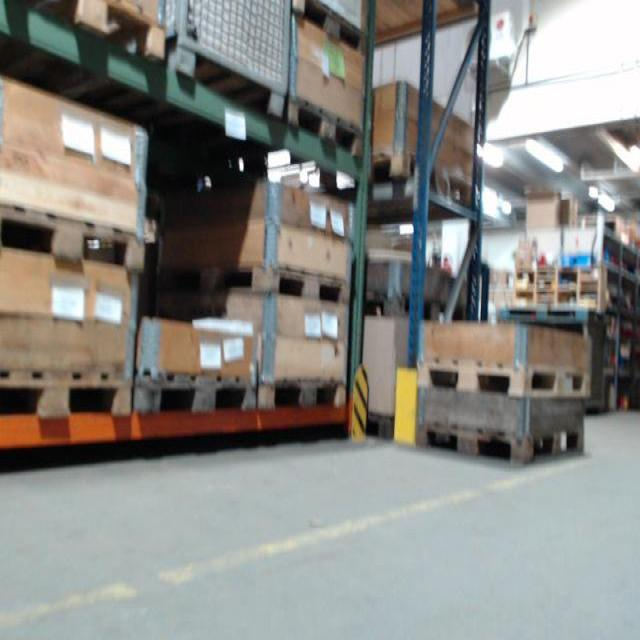pallet: (0, 202, 146, 275), (158, 259, 353, 308), (417, 418, 594, 467), (48, 0, 166, 65), (418, 359, 593, 402), (0, 366, 134, 417), (134, 370, 256, 415), (284, 96, 366, 161), (290, 0, 368, 57), (259, 376, 347, 411)
stillage: (140, 0, 297, 129)
